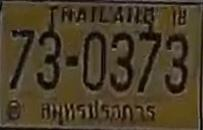0: (82, 31, 106, 90)
3: (35, 28, 60, 89), (109, 32, 134, 90), (164, 32, 188, 92)
7: (137, 30, 161, 92), (9, 29, 34, 88)
SPK: (39, 100, 157, 126)
